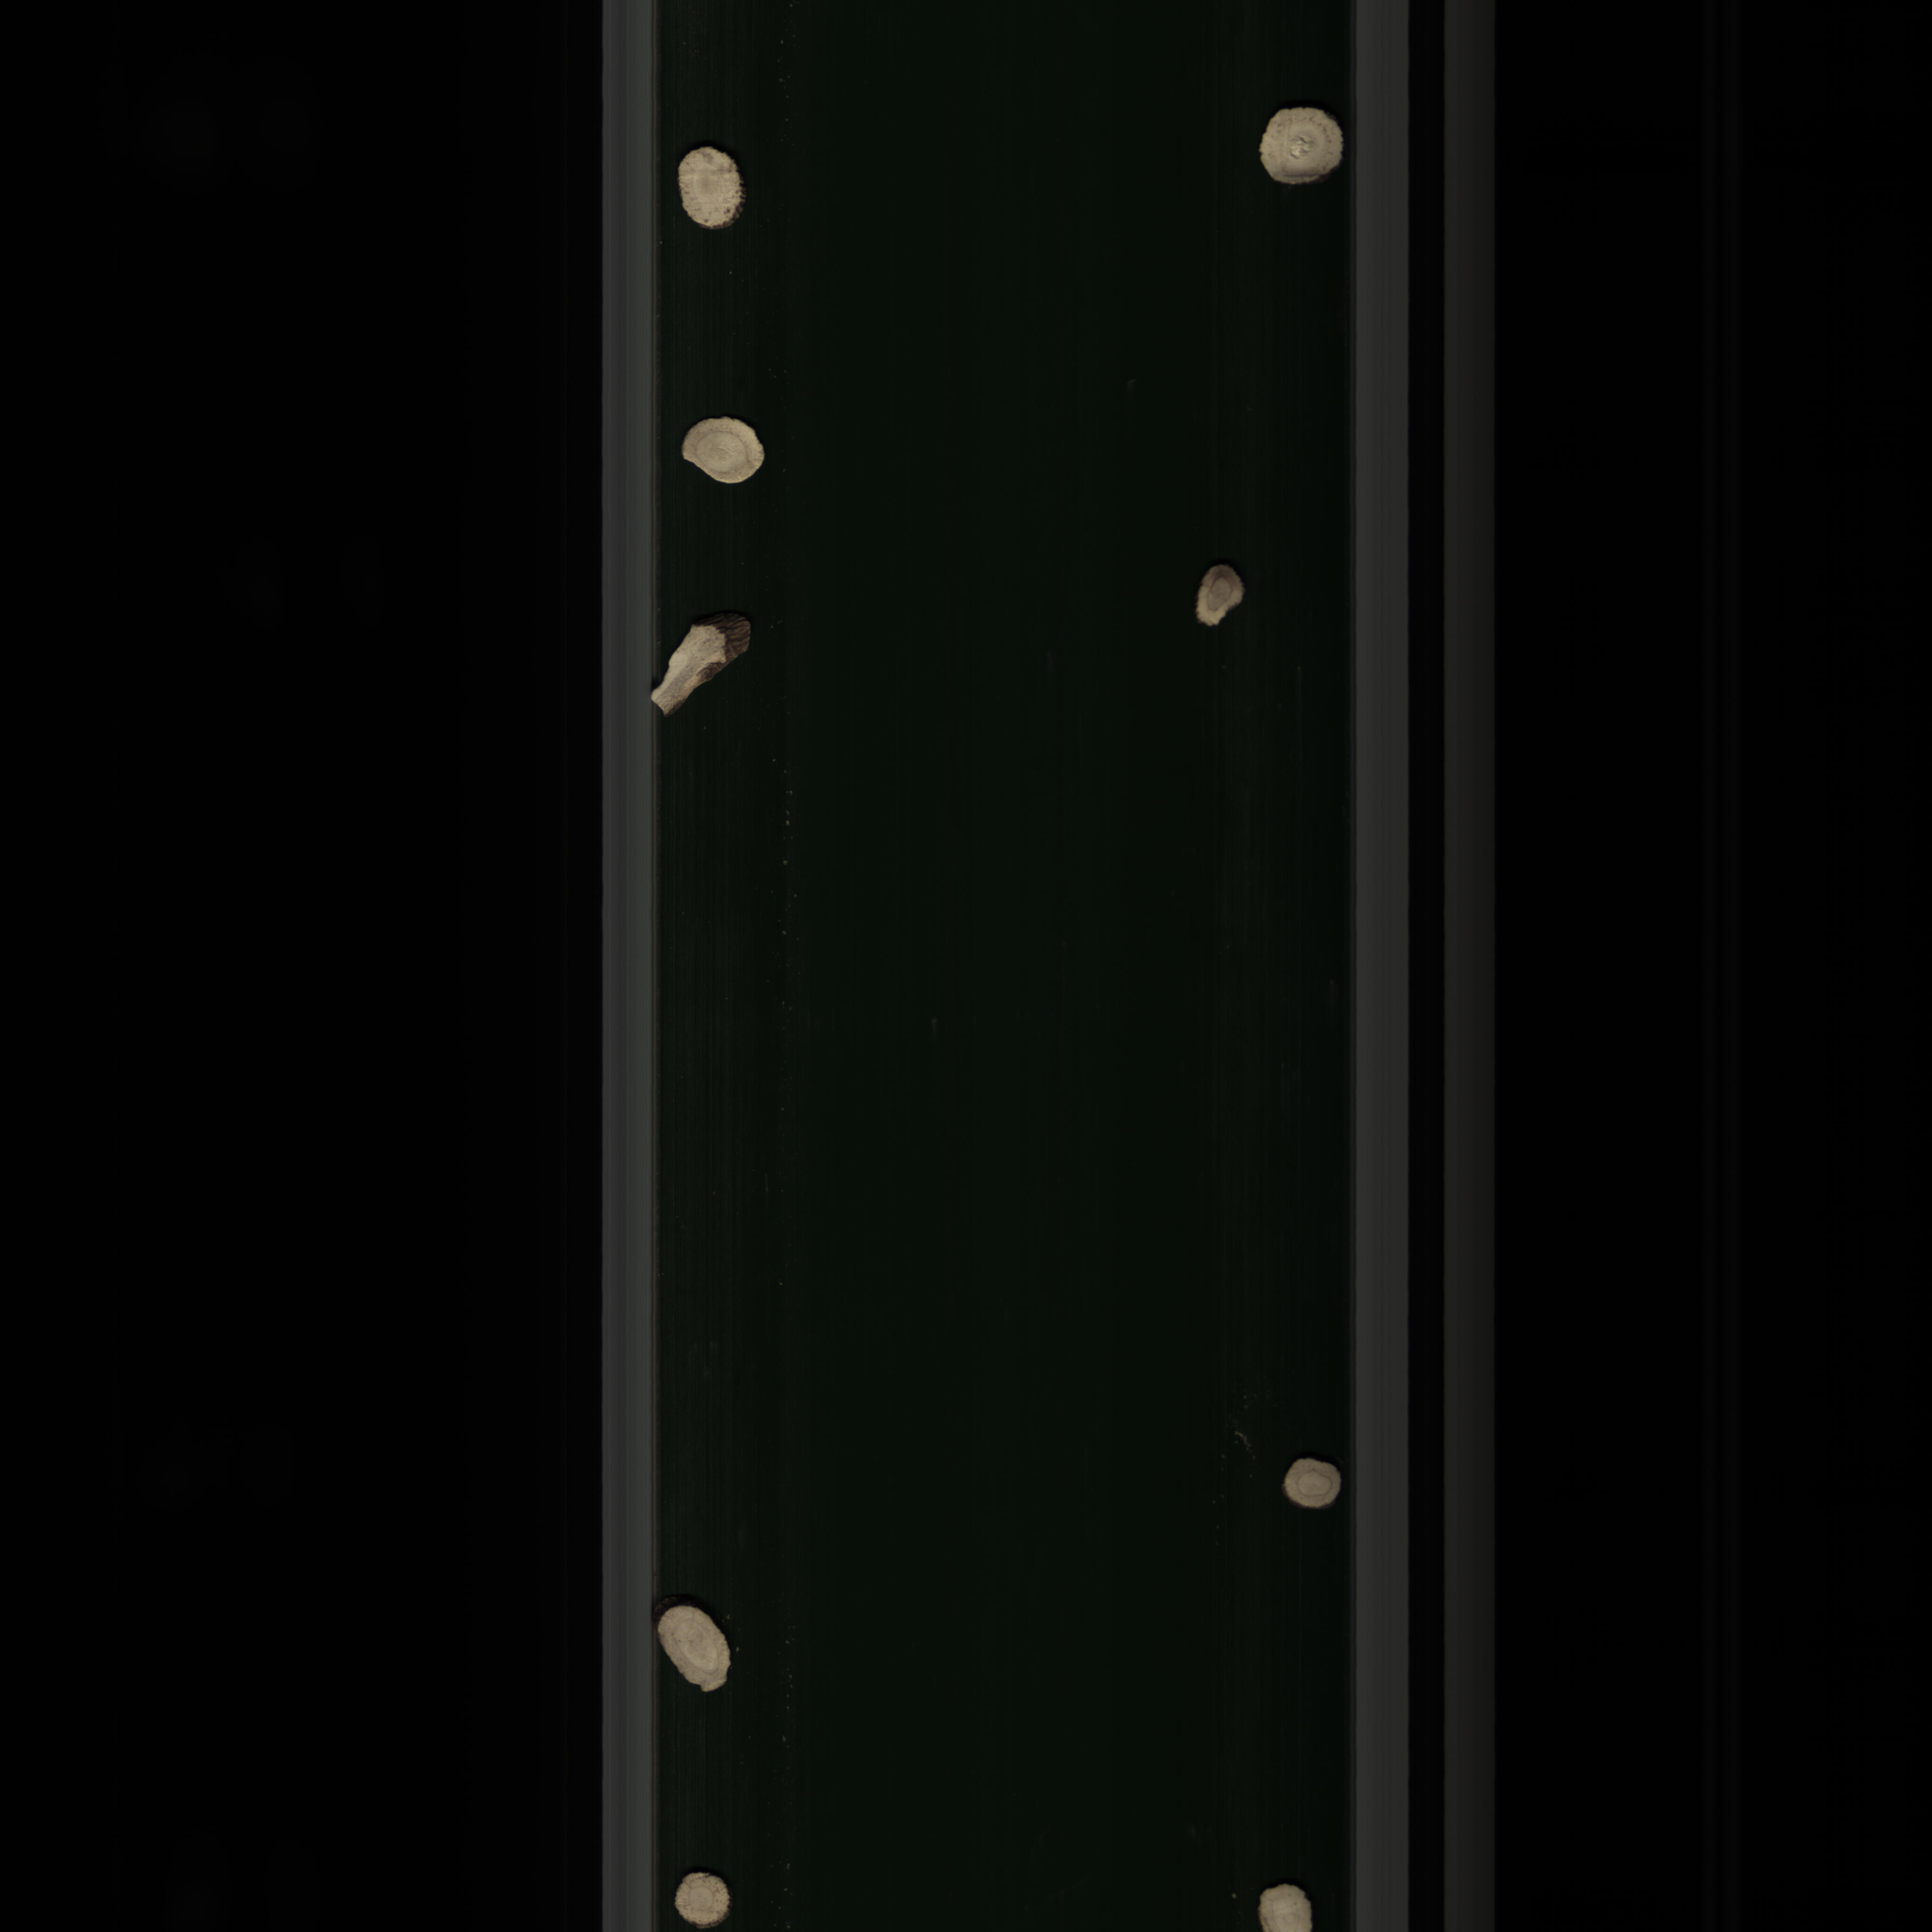debris: (649, 610, 764, 722)
moldy: (1185, 554, 1254, 635)
